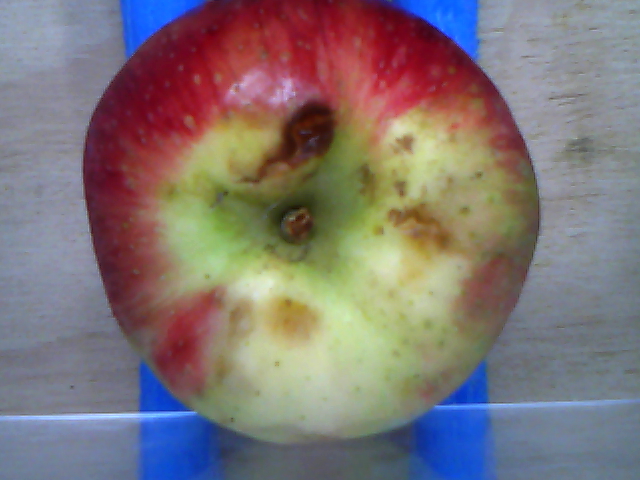bruise: (237, 99, 336, 185)
